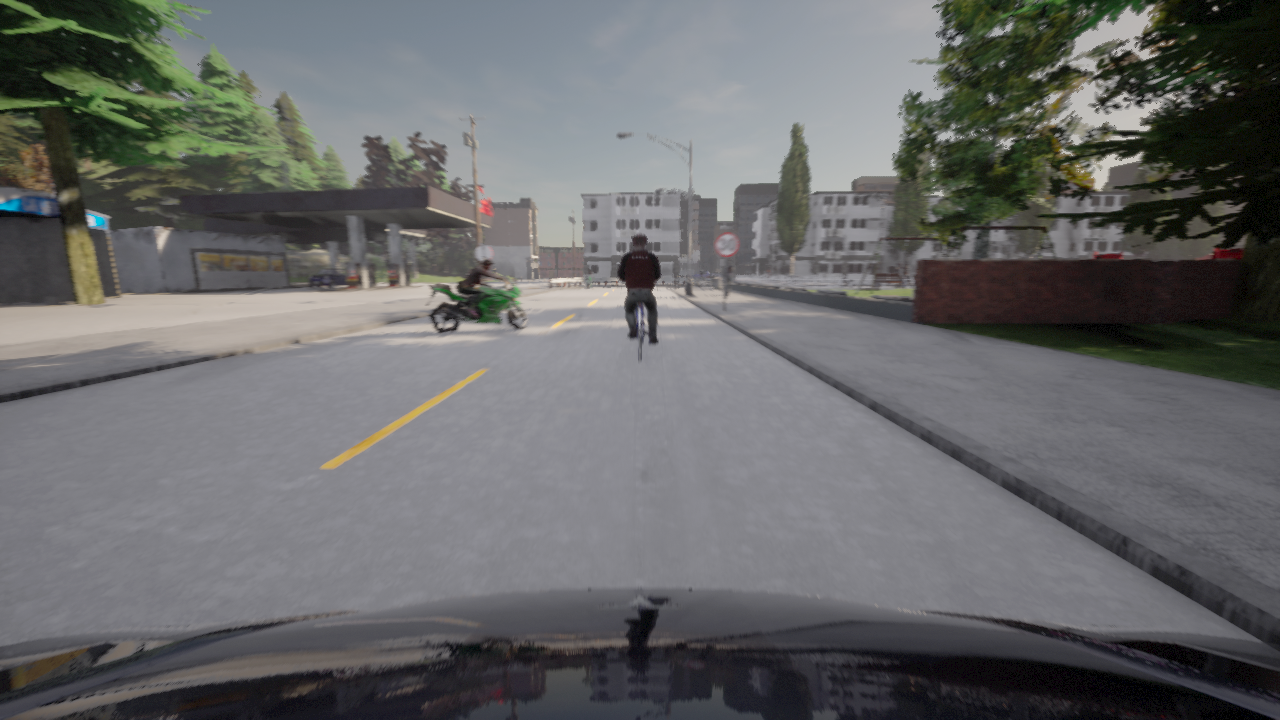cyclist: (0, 588, 1279, 719), (427, 275, 527, 333), (630, 303, 649, 360), (308, 268, 347, 287), (583, 274, 594, 289), (694, 276, 710, 285), (692, 271, 709, 276), (709, 272, 722, 276), (636, 306, 637, 308)
pedestrian: (727, 259, 733, 294), (767, 266, 770, 277), (905, 272, 907, 277)
